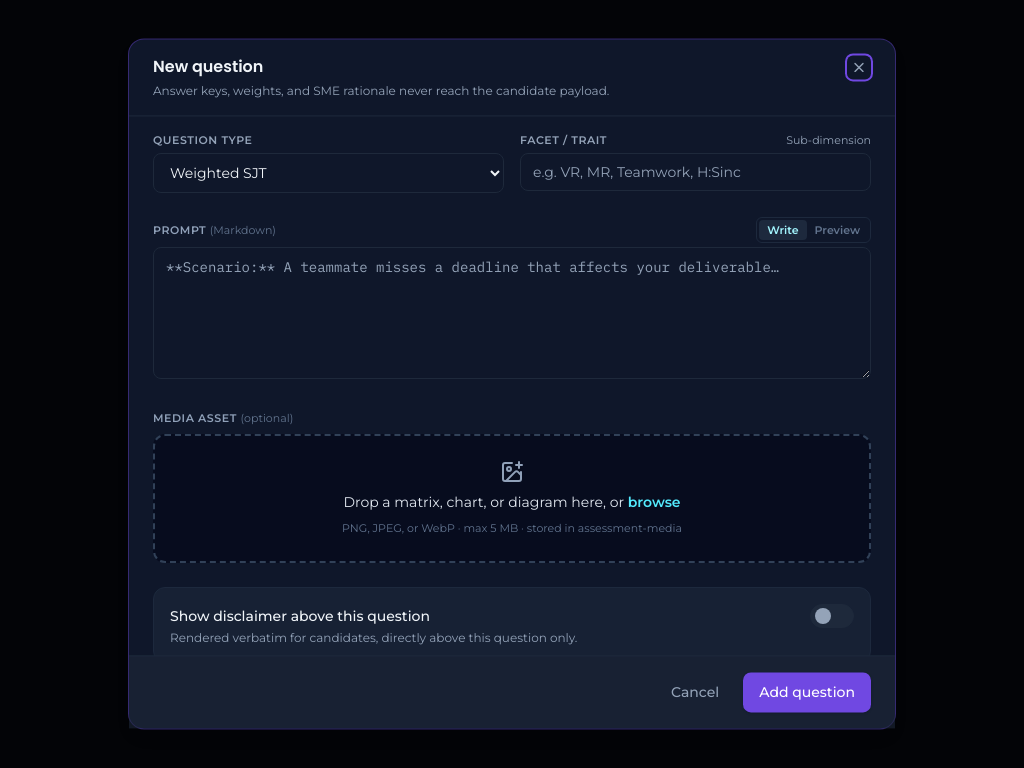
QuestionEditorModal › blocks saving a Likert item with a cleared label and can reset to defaults
Select "Likert Scale" in the dropdown labelled "Question type" at point(328, 173), box [153, 153, 504, 193]
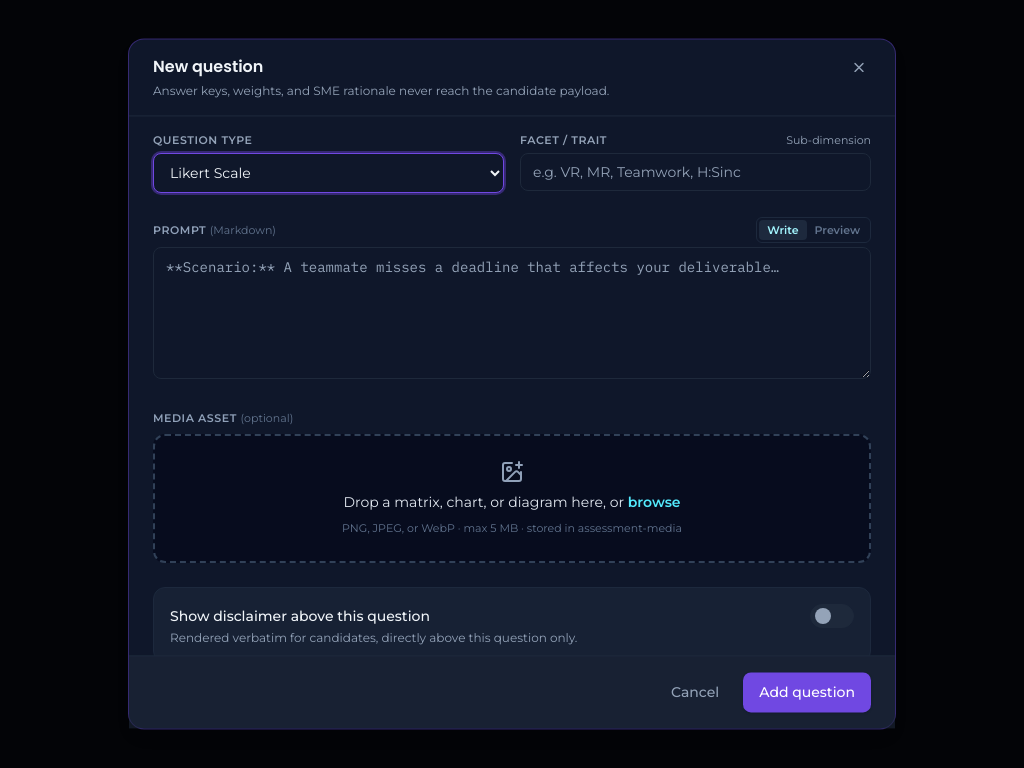
Type "I plan ahead" into the text box labelled "Prompt (Markdown)" at point(512, 313), box [153, 247, 871, 379]
(page scrolled)
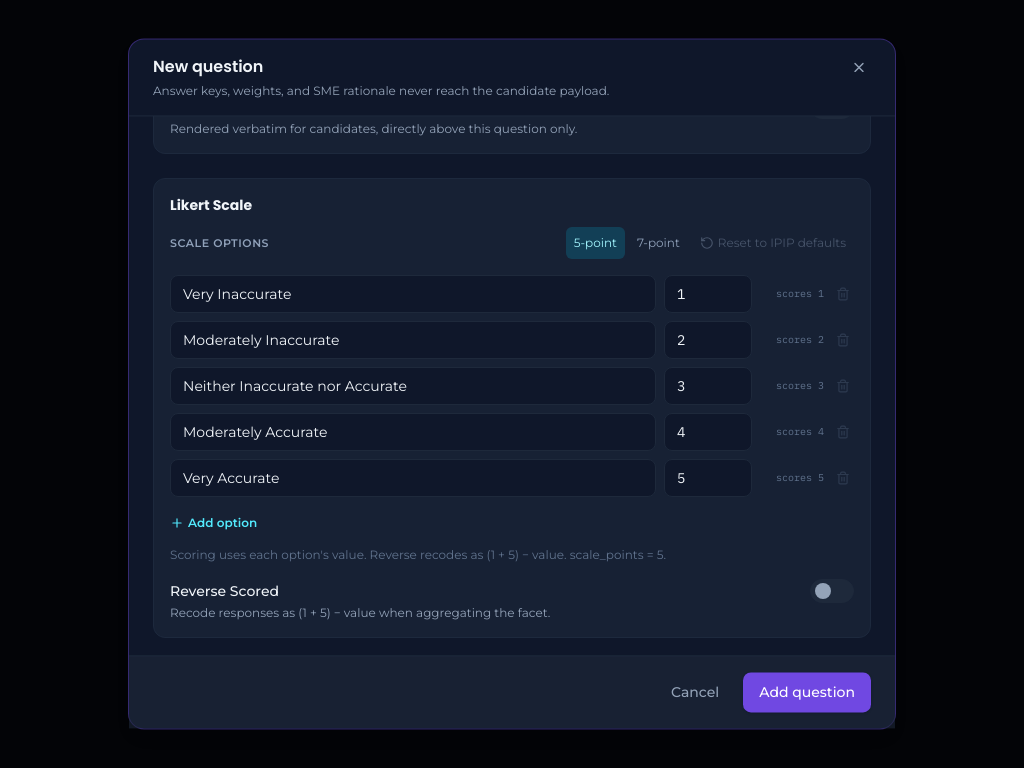
Result: the button "Reset to IPIP defaults" is disabled at [692, 227, 854, 259]
Clear the field named "Label for point 3" at point(413, 386), box [170, 367, 656, 405]
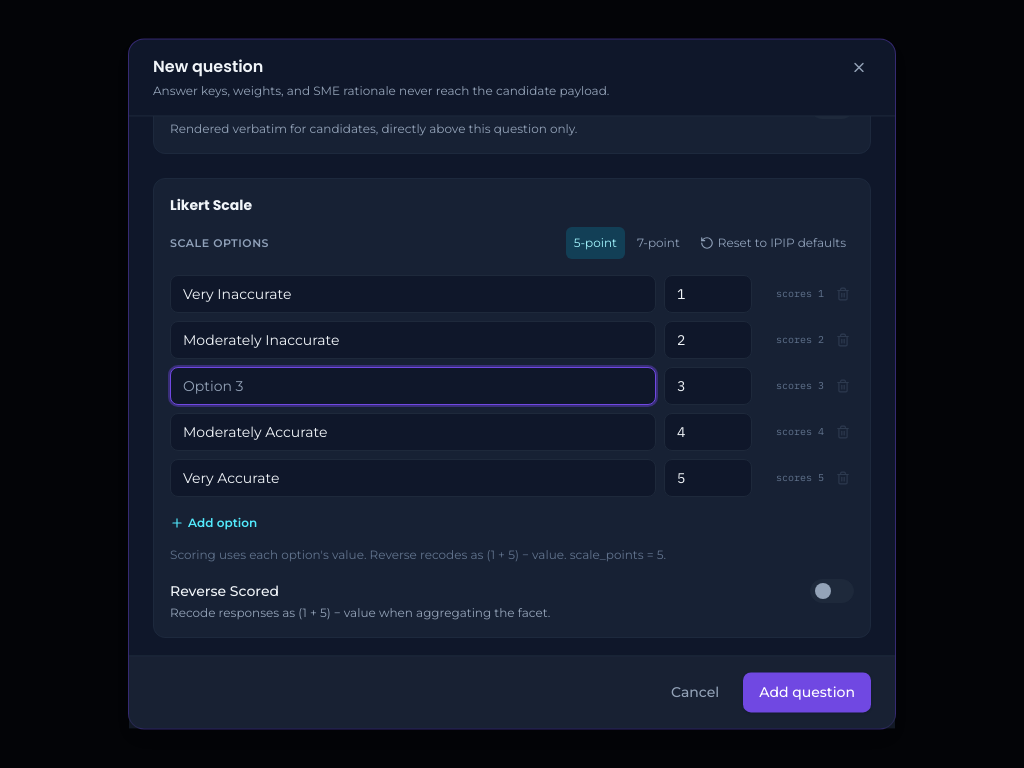
Result: the field named "Label for point 3" is marked as invalid at [170, 367, 656, 405]
Click the button "Add question" at point(807, 693), box [743, 673, 871, 713]
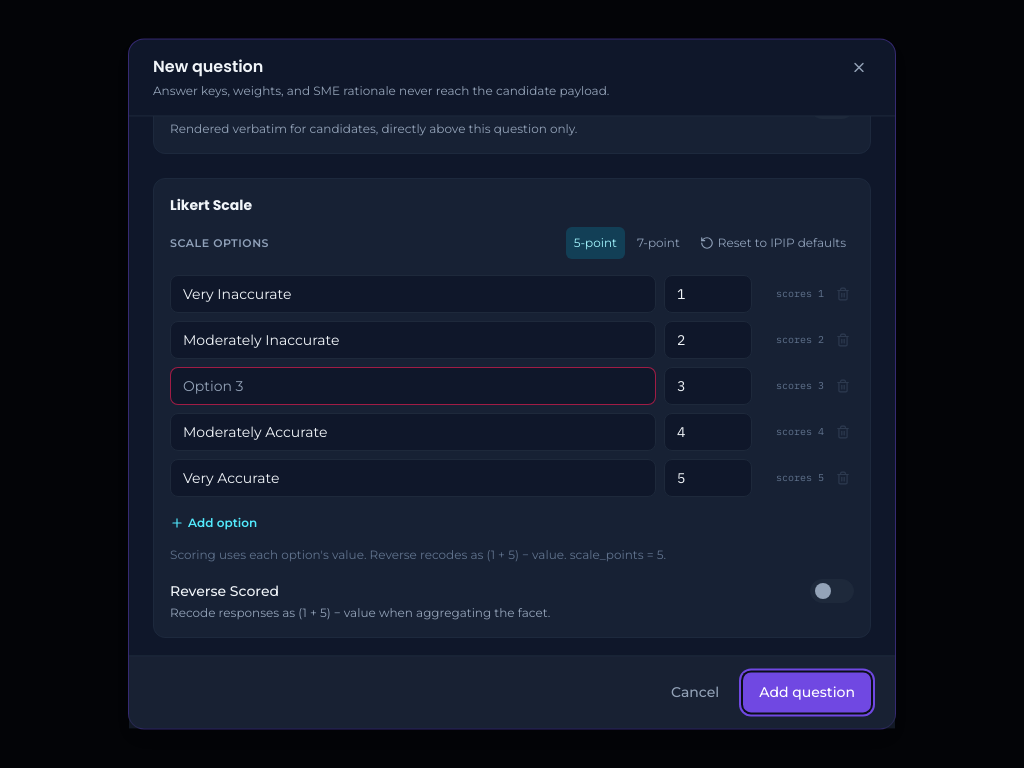
Click the button "Reset to IPIP defaults" at point(773, 243), box [692, 227, 854, 259]
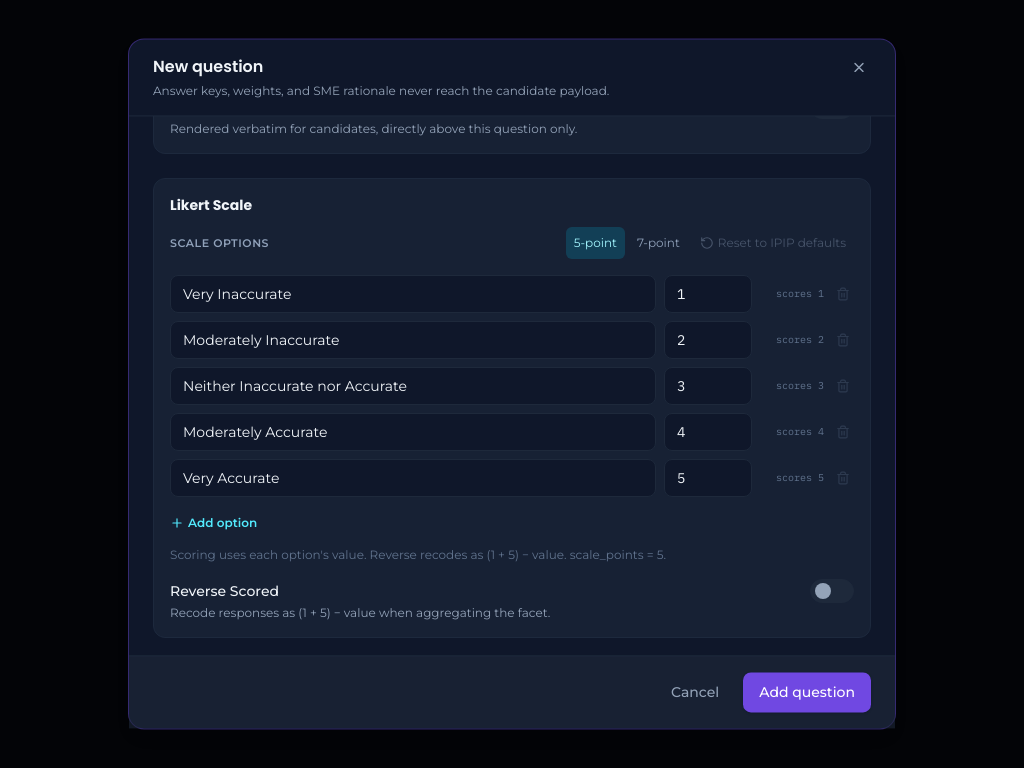
Result: the field named "Label for point 3" holds "Neither Inaccurate nor Accurate" at [170, 367, 656, 405]
